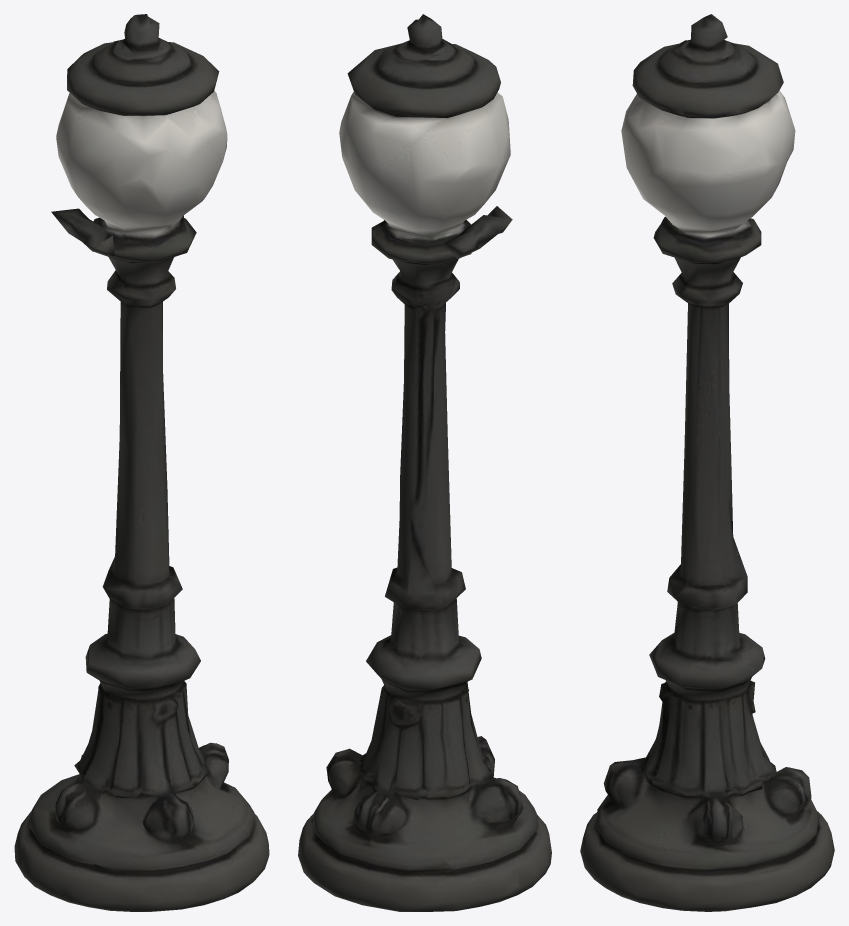
File: street_lamp.glb
3 views of the same model, side by side, from view 1: azimuth 30°, elevation 25°; view 2: azimuth 150°, elevation 25°; view 3: azimuth 270°, elevation 25° (orthographic).
Visible parts, largest first — view 1: tripo_node_a05c9f60-b77d-4fc7-8900-2fb4b3c69905; view 2: tripo_node_a05c9f60-b77d-4fc7-8900-2fb4b3c69905; view 3: tripo_node_a05c9f60-b77d-4fc7-8900-2fb4b3c69905.
Boxes of the visible parts, bbox=[...] form: tripo_node_a05c9f60-b77d-4fc7-8900-2fb4b3c69905: bbox=[14, 14, 269, 911]; tripo_node_a05c9f60-b77d-4fc7-8900-2fb4b3c69905: bbox=[298, 14, 551, 911]; tripo_node_a05c9f60-b77d-4fc7-8900-2fb4b3c69905: bbox=[580, 14, 834, 911].
Size of the model in its own units: 0.2745 by 1 by 0.2727.
Materials: 1 (1 with a texture image).
